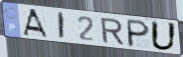2: (77, 15, 95, 42)
A: (22, 8, 50, 40)
I: (58, 11, 66, 41)
P: (126, 19, 151, 49)
R: (99, 17, 125, 45)
U: (150, 20, 179, 52)
